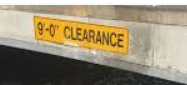0: (48, 21, 56, 40)
9: (35, 19, 44, 38)
overheadsign: (32, 15, 129, 55)
